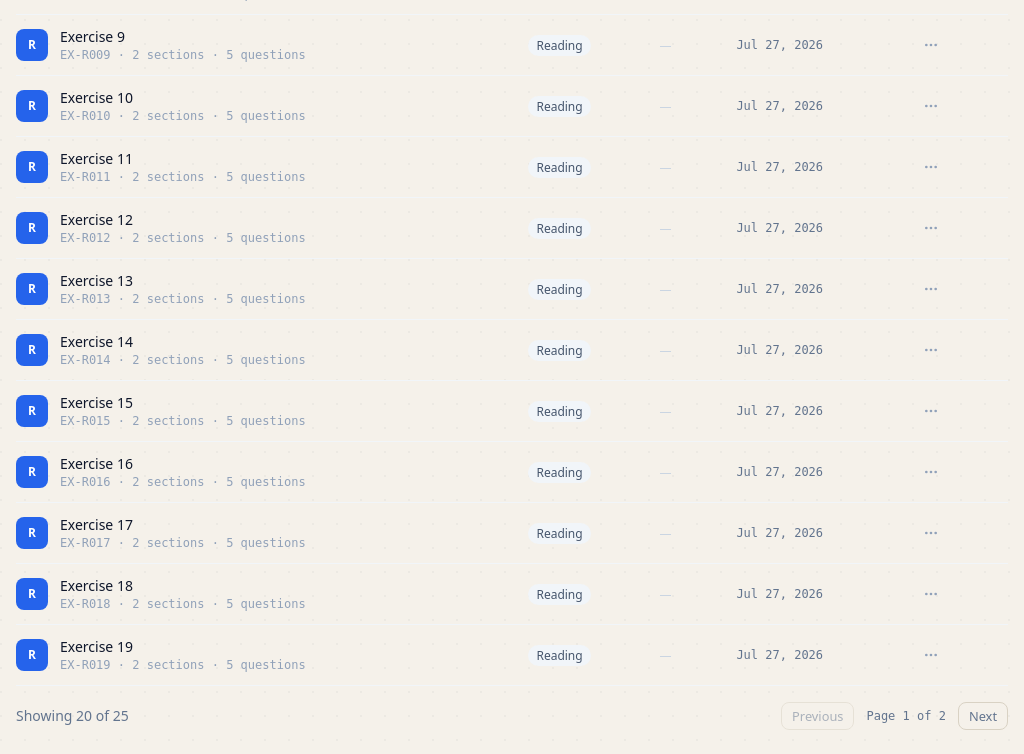
Test case: ExerciseLibraryPage — filters + pagination (AC2) › paginates: next page fetches the next slice, page indicator updates
(page scrolled)
Expected: the button "Exercise 19" is shown, [60,637,133,657]
Expected: the text "Exercise 20" is not shown
Click the button with test id "exercises-next".
click(983, 716)  # box [958,702,1008,730]
(page scrolled)
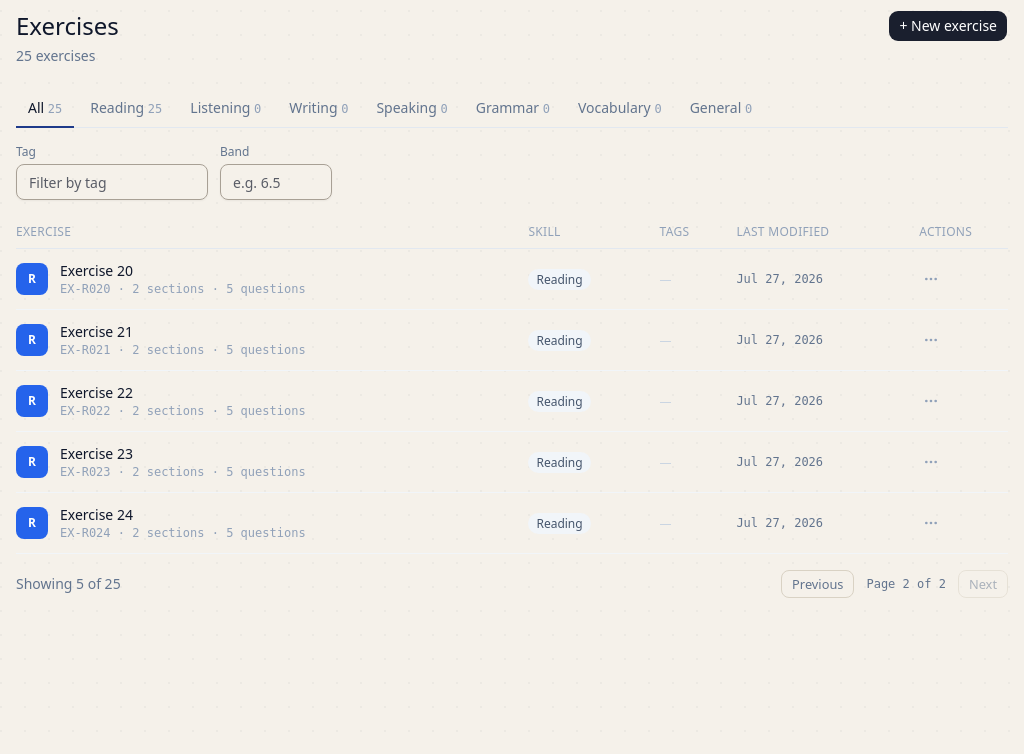
Expected: the text with test id "exercises-page-indicator" shows "2", [866,577,946,591]
Expected: the button "Exercise 20" is shown, [60,261,133,281]
